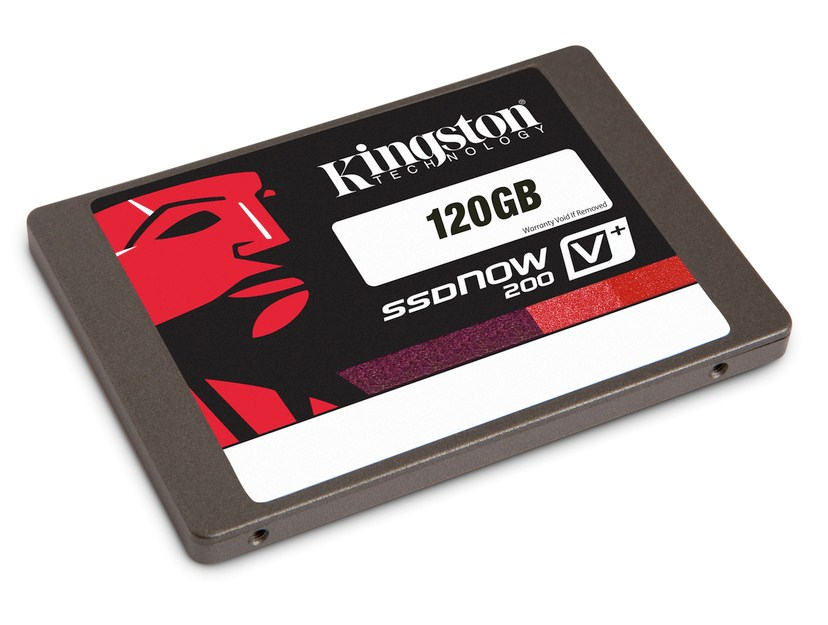Kingston: (83, 167, 341, 448), (320, 93, 552, 200)
